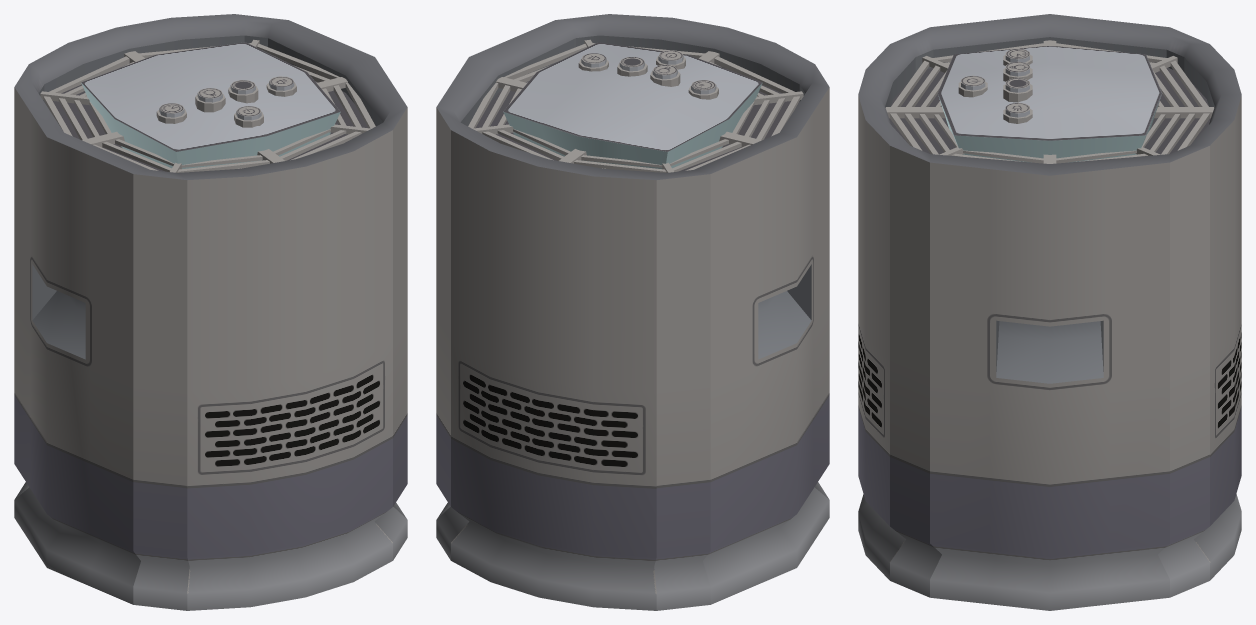
3 views of the same model, side by side, from view 1: azimuth 30°, elevation 25°; view 2: azimuth 150°, elevation 25°; view 3: azimuth 270°, elevation 25° (orthographic).
Parts seen in each view (by area): view 1: Air_Purifier; view 2: Air_Purifier; view 3: Air_Purifier.
Boxes of the visible parts, bbox=[...] form: Air_Purifier: bbox=[14, 14, 407, 610]; Air_Purifier: bbox=[436, 14, 829, 610]; Air_Purifier: bbox=[858, 14, 1241, 610].
Size of the model in its own units: 598 by 784 by 599.
Materials: 1 (1 with a texture image).
